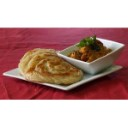parota: (18, 48, 82, 86)
